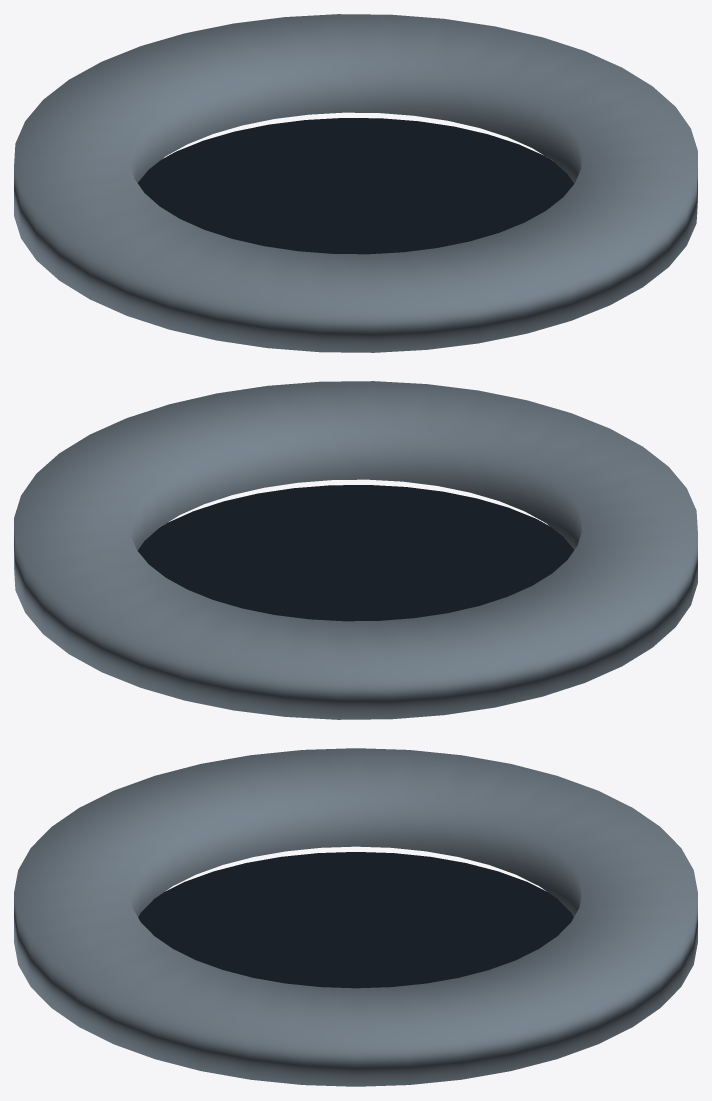
The model's file is poisk.axial_hatch_a.glb.
The picture shows the model from 3 angles, top to bottom: view 1: azimuth 30°, elevation 25°; view 2: azimuth 150°, elevation 25°; view 3: azimuth 270°, elevation 25°; orthographic projection.
Parts seen in each view (by area): view 1: poisk.axial_hatch_a.mesh_Machined_steel, poisk.axial_hatch_a.mesh_Shadowed_interior; view 2: poisk.axial_hatch_a.mesh_Machined_steel, poisk.axial_hatch_a.mesh_Shadowed_interior; view 3: poisk.axial_hatch_a.mesh_Machined_steel, poisk.axial_hatch_a.mesh_Shadowed_interior.
Boxes of the visible parts, <box> form: poisk.axial_hatch_a.mesh_Machined_steel: <box>14,14,697,352</box>; poisk.axial_hatch_a.mesh_Shadowed_interior: <box>138,118,573,254</box>; poisk.axial_hatch_a.mesh_Machined_steel: <box>14,381,697,719</box>; poisk.axial_hatch_a.mesh_Shadowed_interior: <box>138,485,573,621</box>; poisk.axial_hatch_a.mesh_Machined_steel: <box>14,748,697,1086</box>; poisk.axial_hatch_a.mesh_Shadowed_interior: <box>138,852,573,988</box>.
Bounding box in the file's own units: 1.62 × 0.22 × 1.62.
